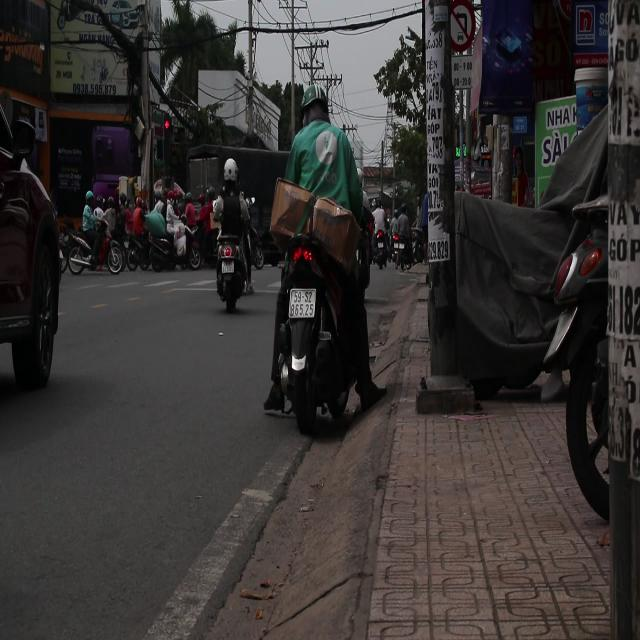motorbike: (281, 206, 361, 451), (90, 188, 150, 274), (211, 203, 257, 313), (58, 221, 123, 276), (146, 222, 204, 274), (388, 211, 422, 281), (364, 224, 390, 273)
